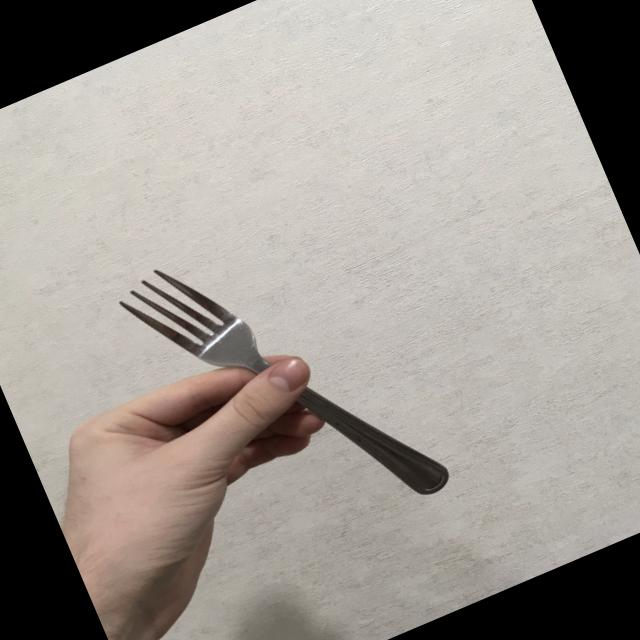fork: (109, 193, 454, 578)
